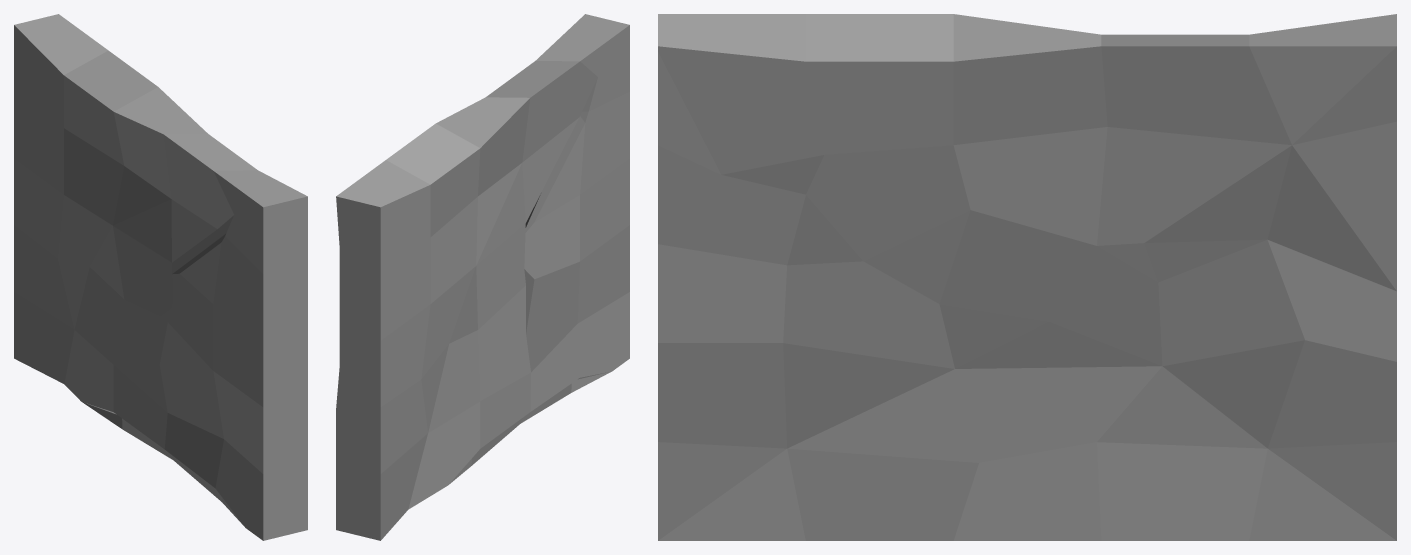
The model's file is Fixed Mesh 8.fbx.
3 views of the same model, side by side, from view 1: azimuth 30°, elevation 25°; view 2: azimuth 150°, elevation 25°; view 3: azimuth 270°, elevation 25° (orthographic). The views are drawn at different scales.
Visible parts, largest first — view 1: Cube.015; view 2: Cube.015; view 3: Cube.015.
Part boxes in pixels (bbox=[...]): Cube.015: bbox=[14, 14, 307, 540]; Cube.015: bbox=[336, 14, 629, 540]; Cube.015: bbox=[658, 14, 1396, 540].
Bounding box in the file's own units: 60 × 428 × 580.
